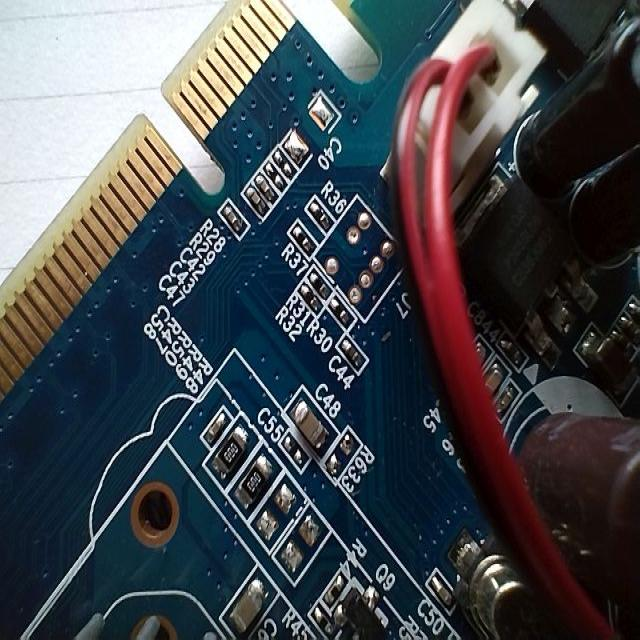capacitor: (286, 385, 337, 456), (244, 185, 265, 219)
resistor: (231, 450, 274, 516), (208, 424, 251, 480), (284, 222, 320, 253), (330, 298, 358, 324), (310, 198, 331, 232), (294, 285, 320, 310), (306, 271, 330, 296)
